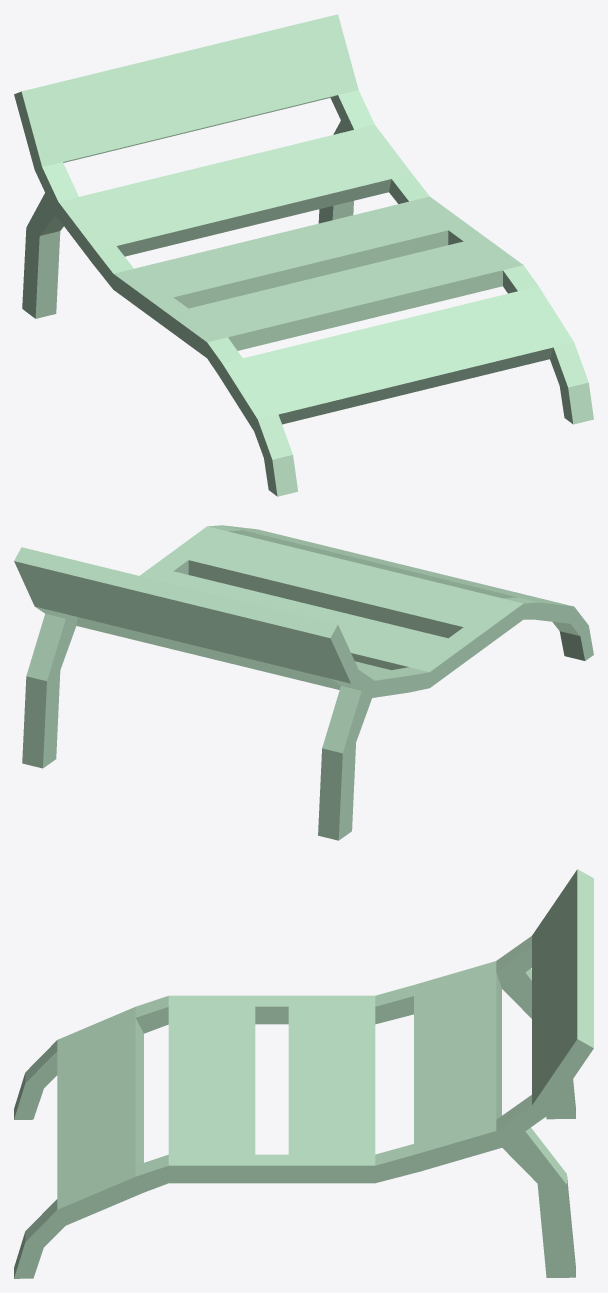
File: lehatko.fbx
The picture shows the model from 3 angles, top to bottom: view 1: azimuth 30°, elevation 25°; view 2: azimuth 150°, elevation 25°; view 3: azimuth 270°, elevation 25°; orthographic projection. The views are drawn at different scales.
Visible parts, largest first — view 1: Cube.001; view 2: Cube.001; view 3: Cube.001.
Boxes of the visible parts, x1=… form: Cube.001: x1=14, y1=14, x2=593, y2=496; Cube.001: x1=14, y1=525, x2=593, y2=840; Cube.001: x1=14, y1=869, x2=593, y2=1278.
Size of the model in its own units: 227 by 149 by 327.
